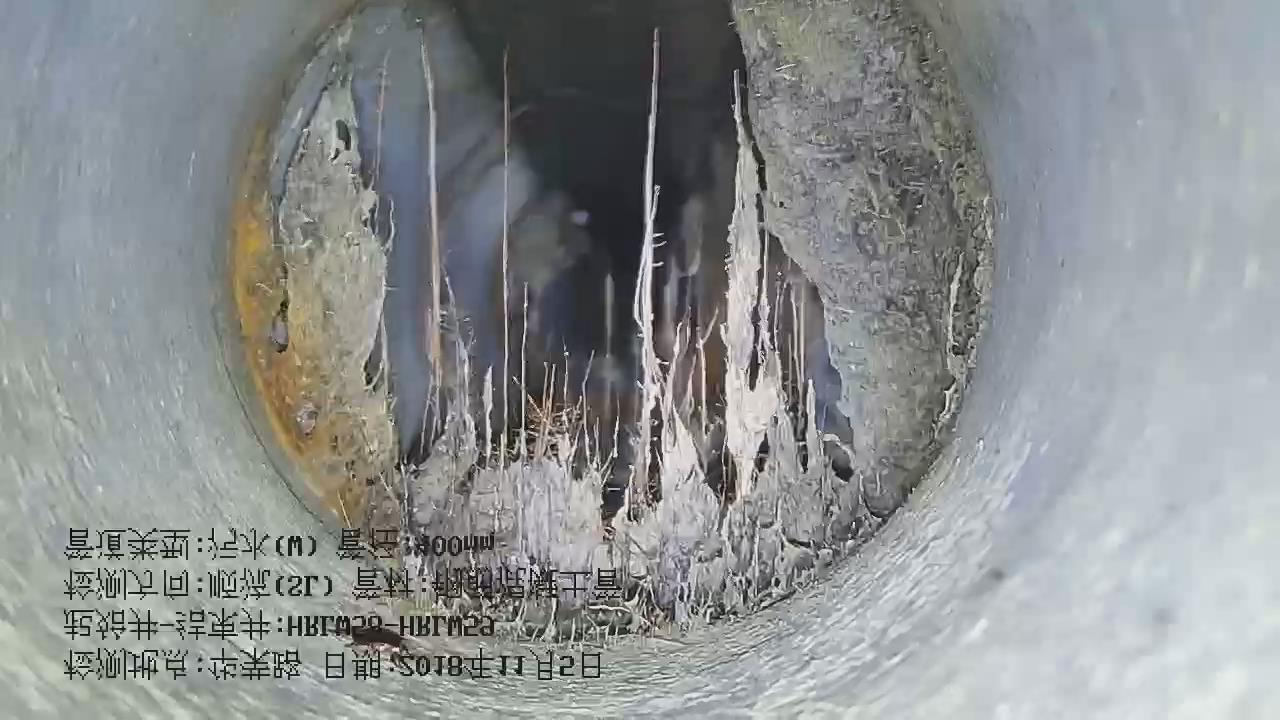SG: (232, 1, 990, 644), (501, 50, 526, 167)
